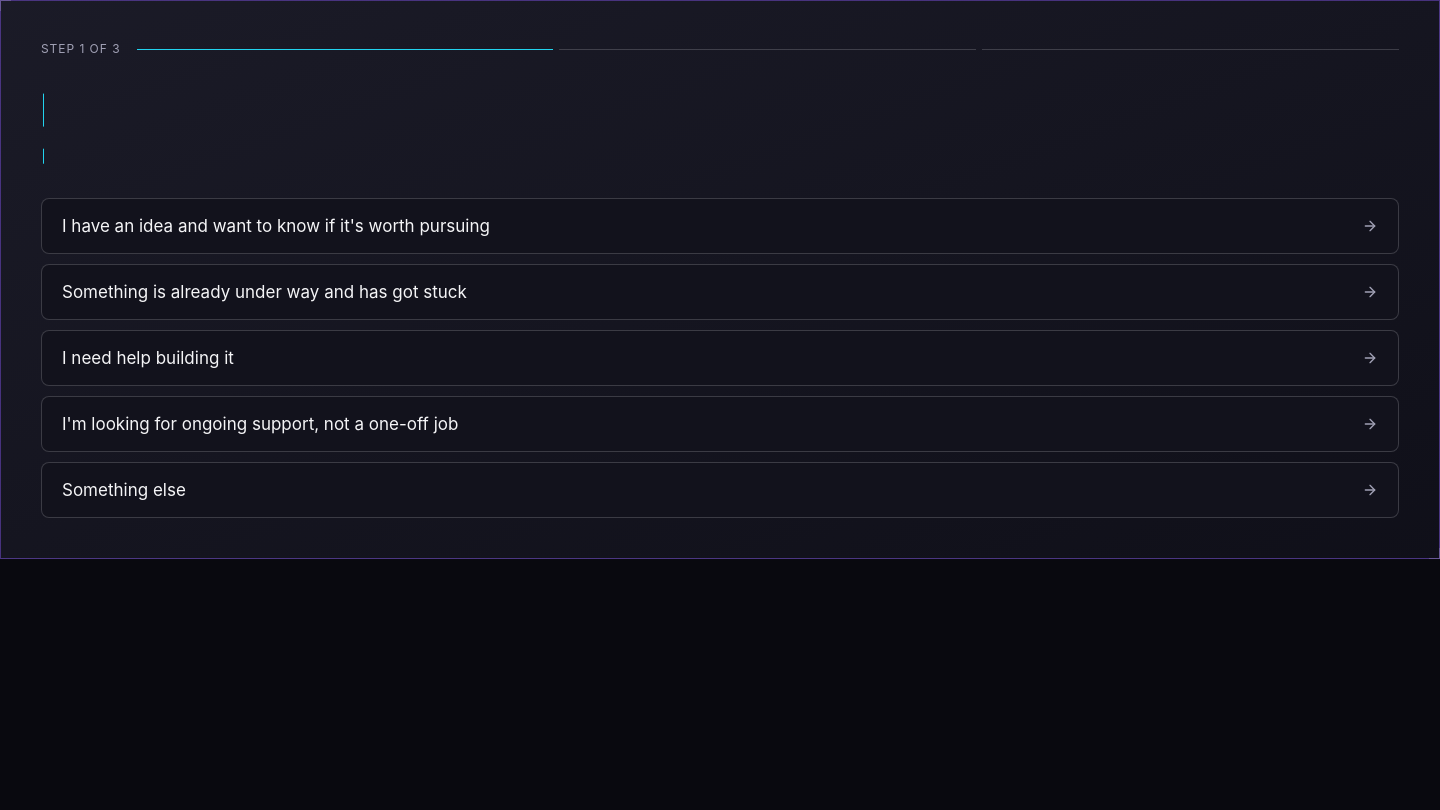
Scenario: ContactForm submission › speaks the language of the page
Expected: the text with test id "contact-progress" reads "Step 1 of 3", [41,41,120,56]
What coordinates should you click on to do the following:
click the button "I have an idea and want to know if it's worth pursuing"
I would click on:
 (276, 226)
Its box is [41,198,1399,254].
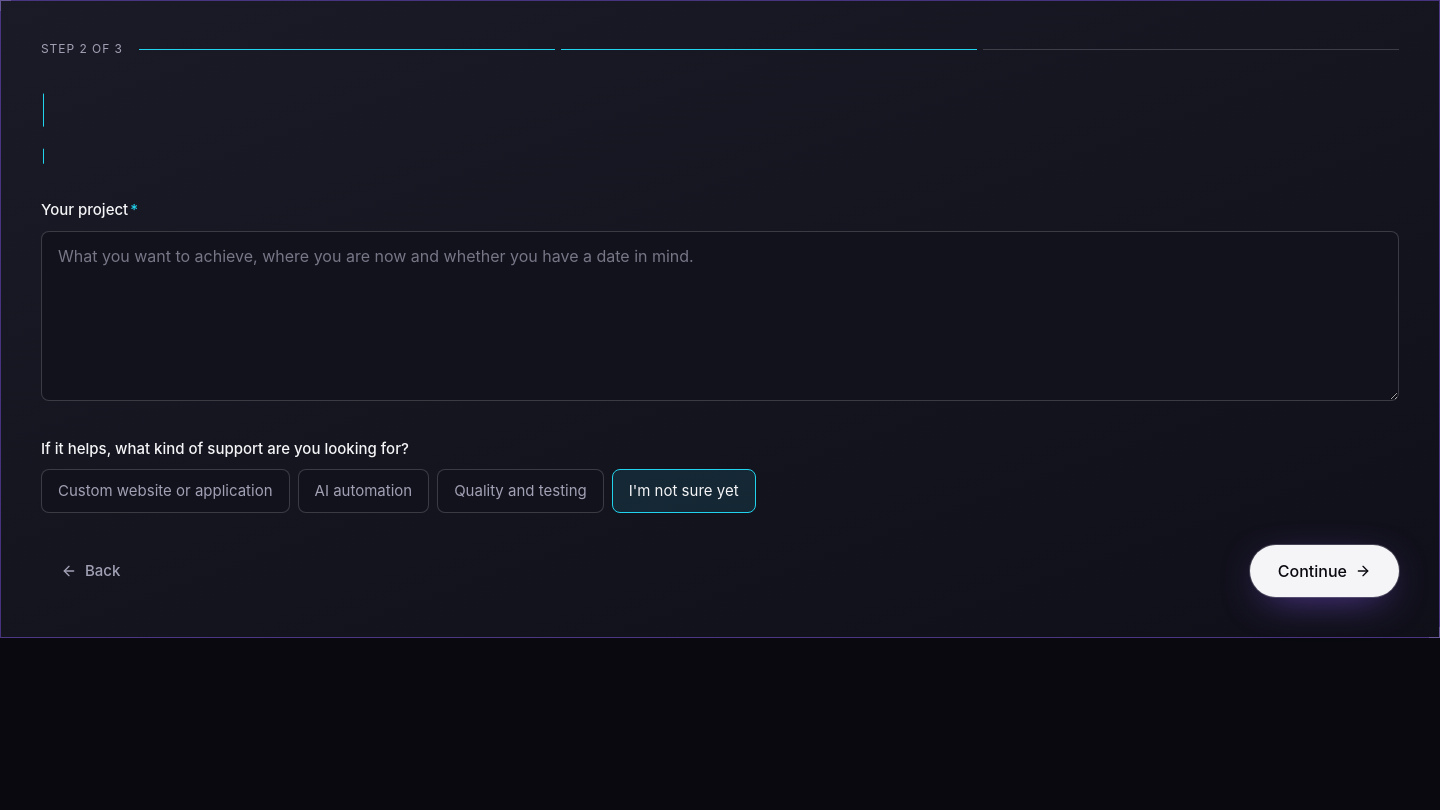
What coordinates should you click on to do the following:
click the button "Continue"
I would click on:
 (1324, 571)
Its box is [1250,545,1399,597].
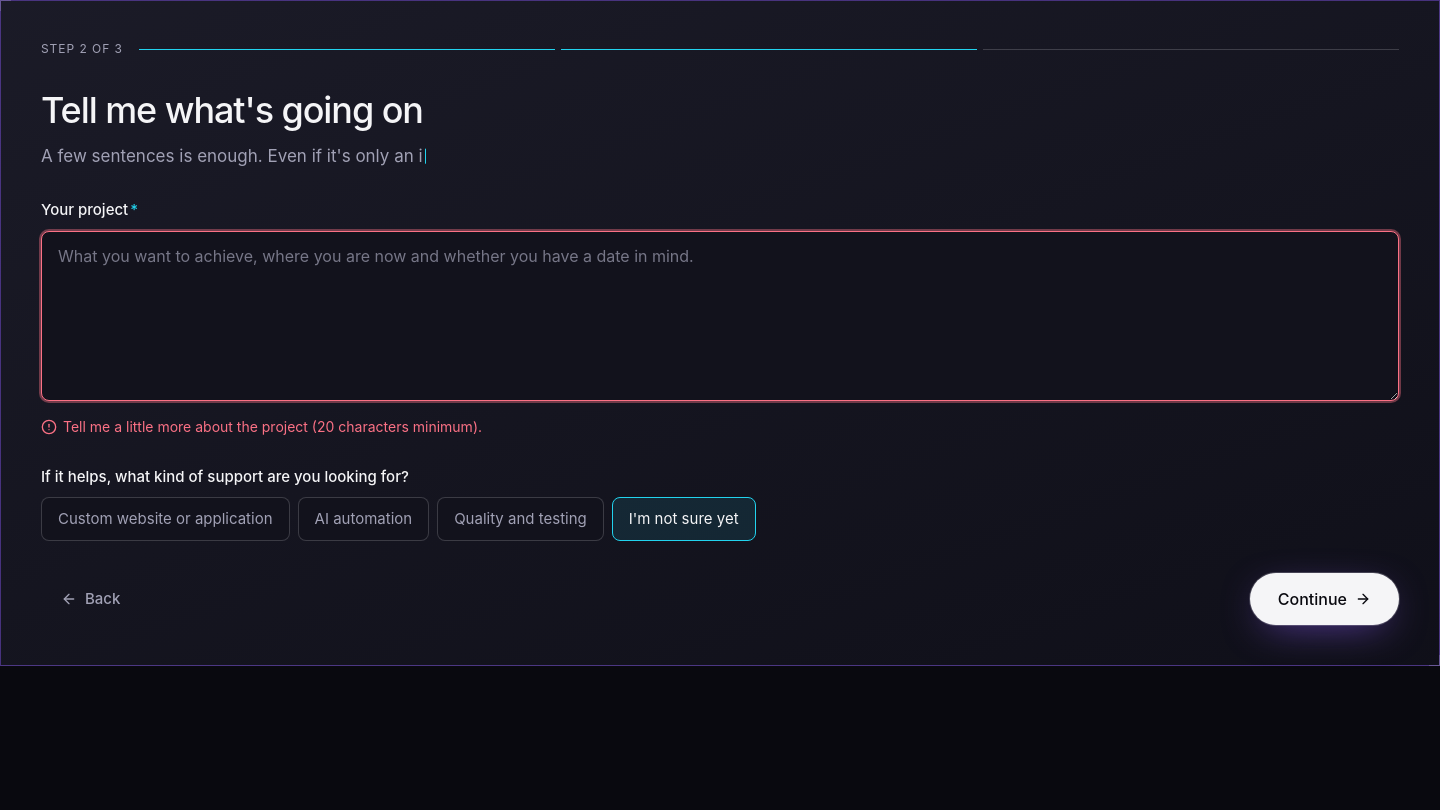
Now the text "Tell me a little more about the project (20 characters minimum)." is shown, box [41,418,482,435]
